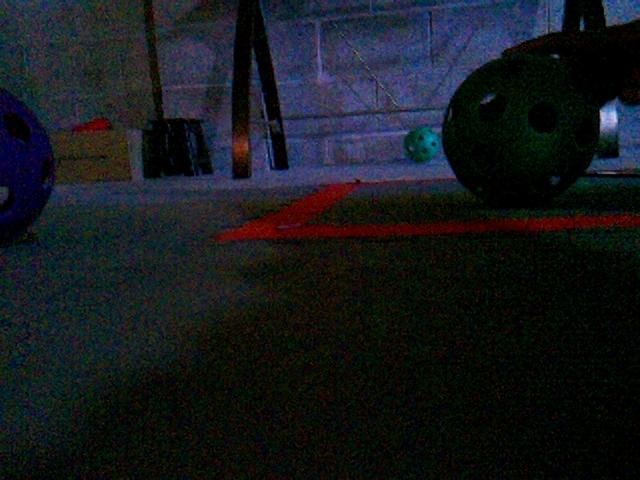Green: (440, 54, 597, 205), (403, 126, 440, 163)
Purple: (0, 86, 56, 242)
